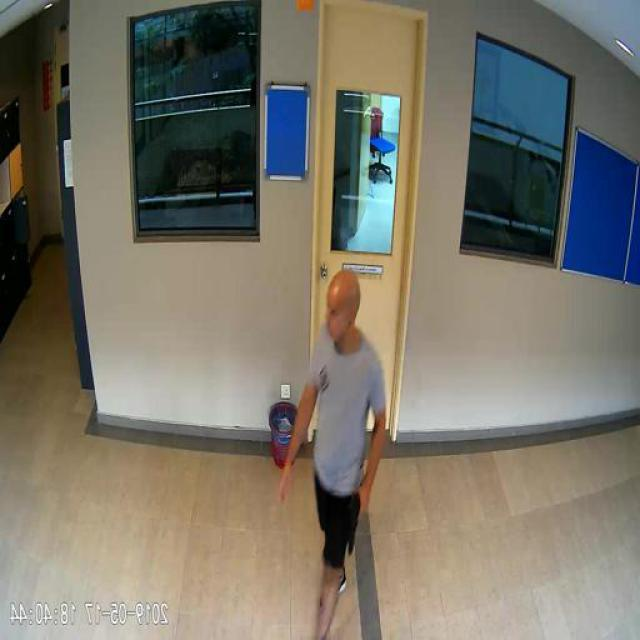Gun: (350, 486, 371, 552)
